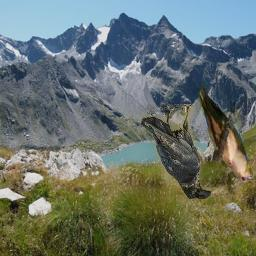Crow: (141, 105, 211, 200)
Cuckoo: (195, 83, 253, 183)
